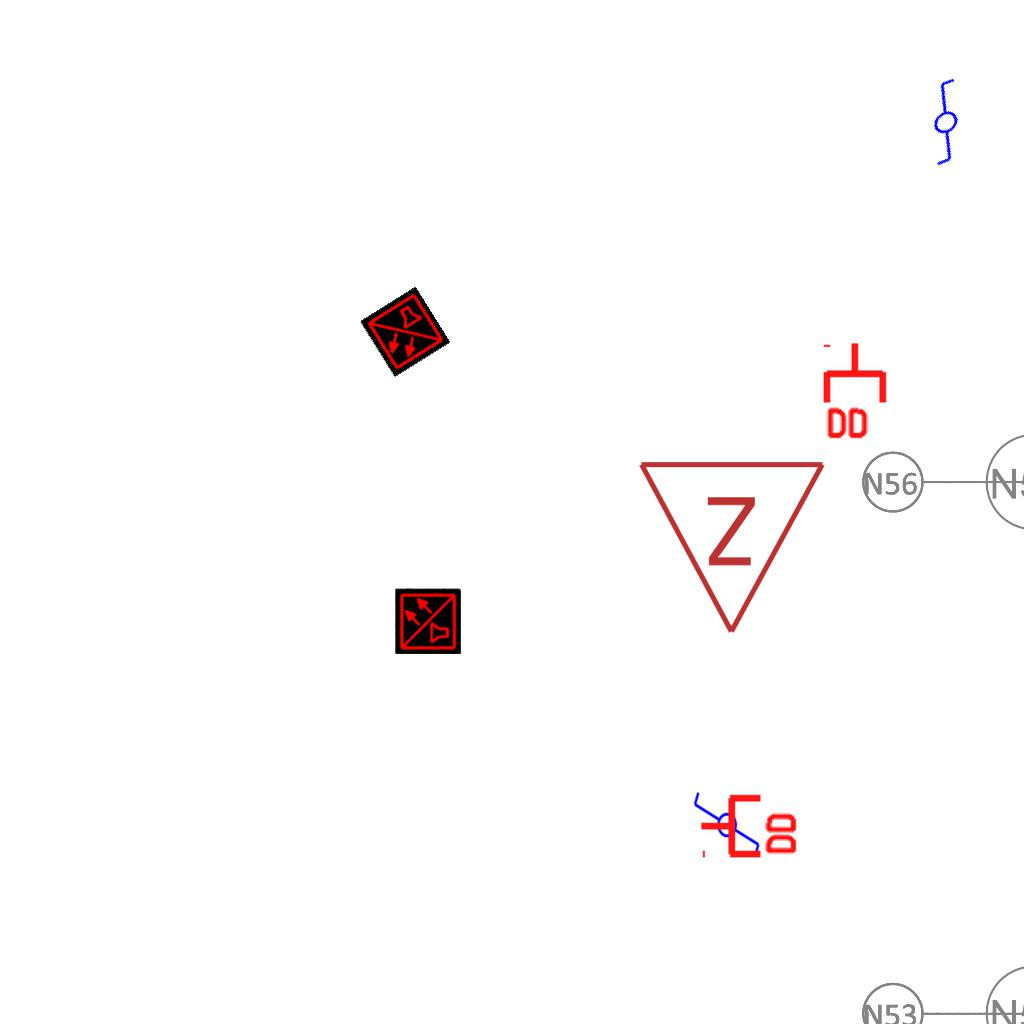Datenanschluss_zweifach: (822, 340, 891, 443), (698, 790, 801, 859)
OKW_Multisensormelder_(Kombination_optischer_Rauch-Kahlenmonoxid_Waerme-Melder): (359, 286, 451, 378), (395, 588, 461, 654)
Wechselschalter: (889, 71, 995, 177), (690, 790, 762, 868)
Zimmersignalleuchte: (636, 447, 832, 647)
